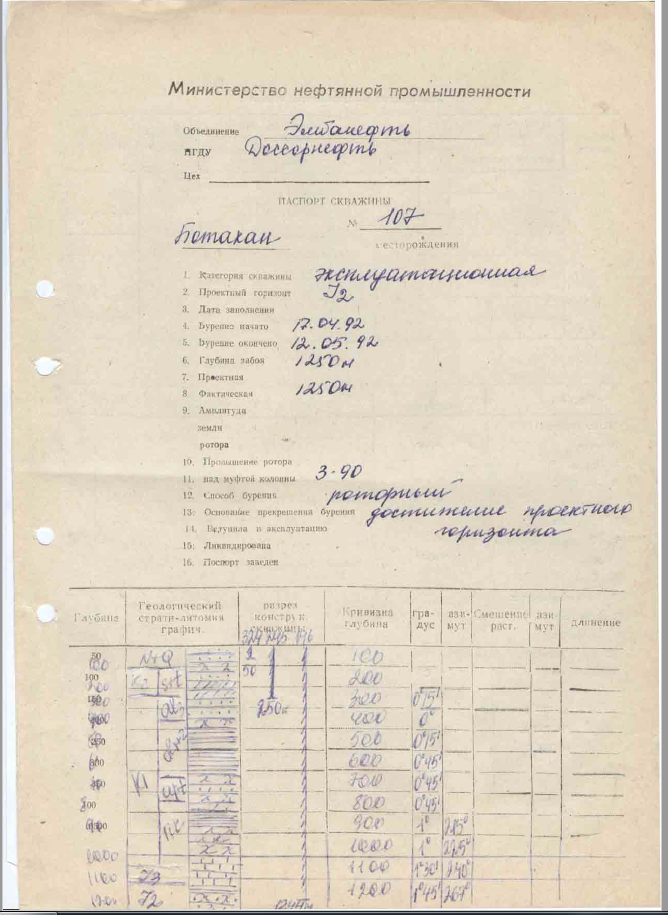Borderless: (64, 589, 636, 915)
